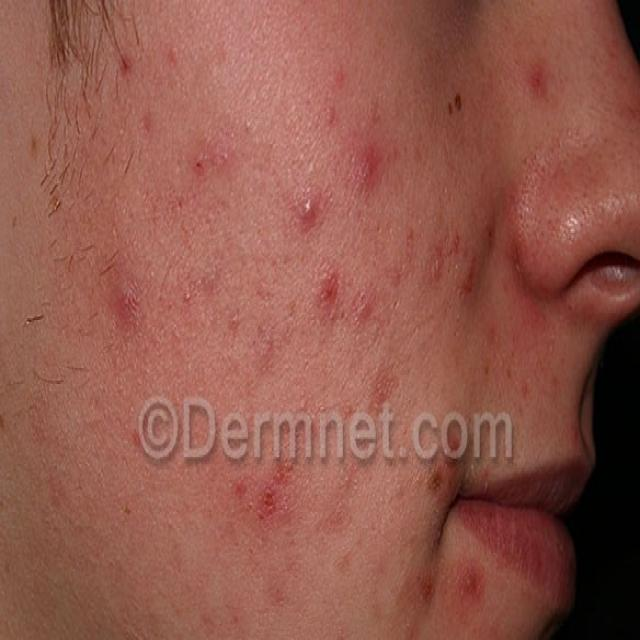Acne: (98, 0, 251, 376), (226, 417, 308, 570), (293, 167, 345, 321)
